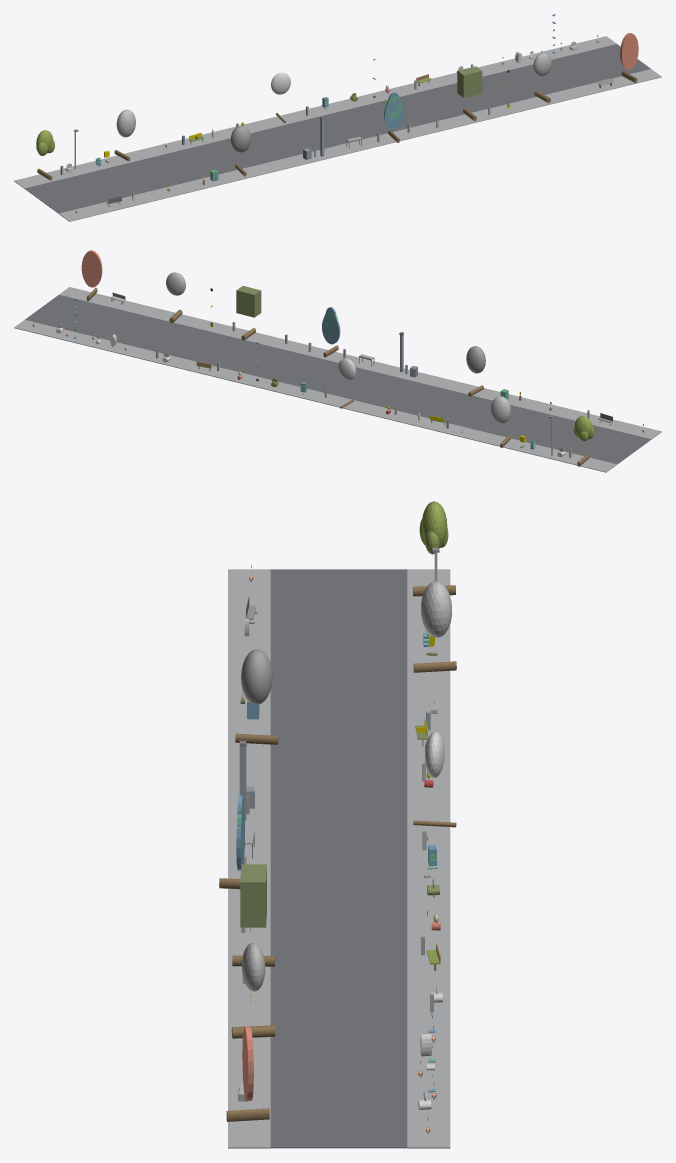
3 views of the same model, one above another, from view 1: azimuth 30°, elevation 25°; view 2: azimuth 150°, elevation 25°; view 3: azimuth 270°, elevation 25° (orthographic). The views are drawn at different scales.
Visible parts, largest first — view 1: road_slab, sidewalk_left, sidewalk_right, inst_0023, inst_0025, inst_0022, inst_0019, inst_0020, inst_0018, inst_0024, inst_0021; view 2: road_slab, sidewalk_right, sidewalk_left, inst_0023, inst_0025, inst_0022, inst_0019, inst_0020, inst_0018, inst_0024, inst_0021; view 3: road_slab, sidewalk_right, sidewalk_left, inst_0023, inst_0019, inst_0020, inst_0024, inst_0018, inst_0025, inst_0021.
Part boxes in pixels (x1,y1,x2,y2): road_slab: (24,44,650,213); sidewalk_left: (59,69,661,221); sidewalk_right: (14,36,616,188); inst_0023: (457,66,482,121); inst_0025: (620,33,638,83); inst_0022: (384,92,404,142); inst_0019: (114,109,135,161); inst_0020: (230,125,251,176); inst_0018: (36,130,54,180); inst_0024: (533,52,551,103); inst_0021: (271,72,290,123); road_slab: (25,295,651,464); sidewalk_right: (14,320,616,472); sidewalk_left: (59,287,661,439); inst_0023: (236,286,261,340); inst_0025: (81,250,102,301); inst_0022: (322,307,340,357); inst_0019: (490,396,511,447); inst_0020: (466,346,485,396); inst_0018: (574,416,594,466); inst_0024: (166,272,185,323); inst_0021: (338,358,355,408); road_slab: (270,569,407,1148); sidewalk_right: (407,569,450,1148); sidewalk_left: (228,569,270,1148); inst_0023: (232,864,275,966); inst_0019: (413,581,456,672); inst_0020: (235,649,278,744); inst_0024: (231,943,275,1038); inst_0018: (413,501,455,596); inst_0025: (226,1026,269,1121); inst_0021: (413,731,456,827).
Bounding box in the file's own units: 80 × 6.08 × 13.9.
